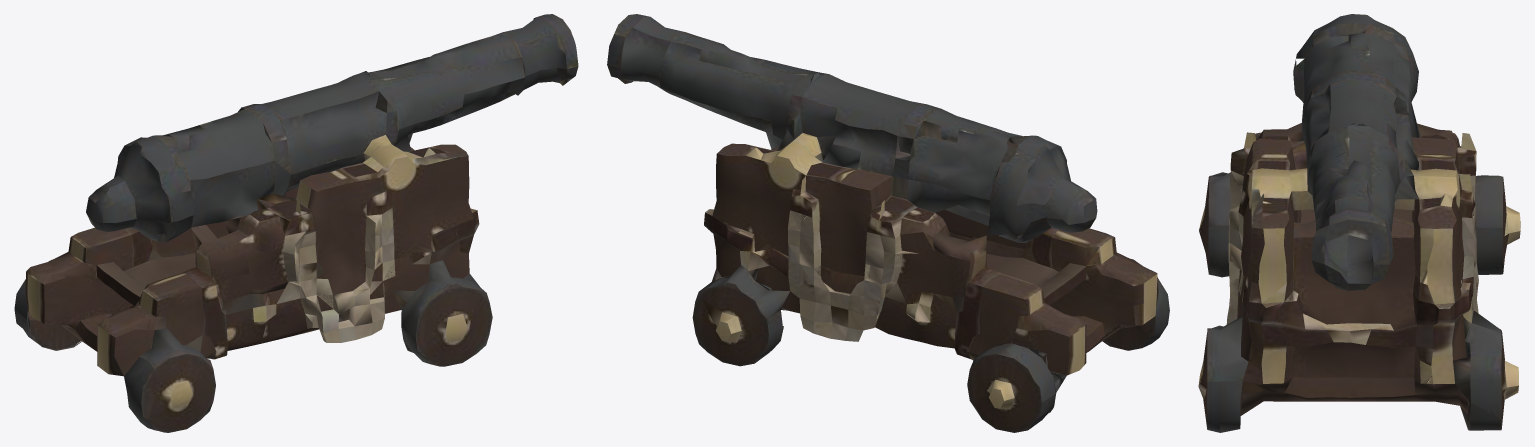
Rendered from canon.glb.
3 renders of one model, left to right at view 1: azimuth 30°, elevation 25°; view 2: azimuth 150°, elevation 25°; view 3: azimuth 270°, elevation 25°, orthographic. The views are drawn at different scales.
Visible parts, largest first — view 1: canon; view 2: canon; view 3: canon.
Boxes of the visible parts, left/top/right/bottom form: canon: left=14, top=14, right=578, bottom=432; canon: left=607, top=14, right=1169, bottom=432; canon: left=1198, top=14, right=1520, bottom=432.
Bounding box in the file's own units: 2.6 × 1.32 × 1.26.
Materials: 1 (1 with a texture image).
